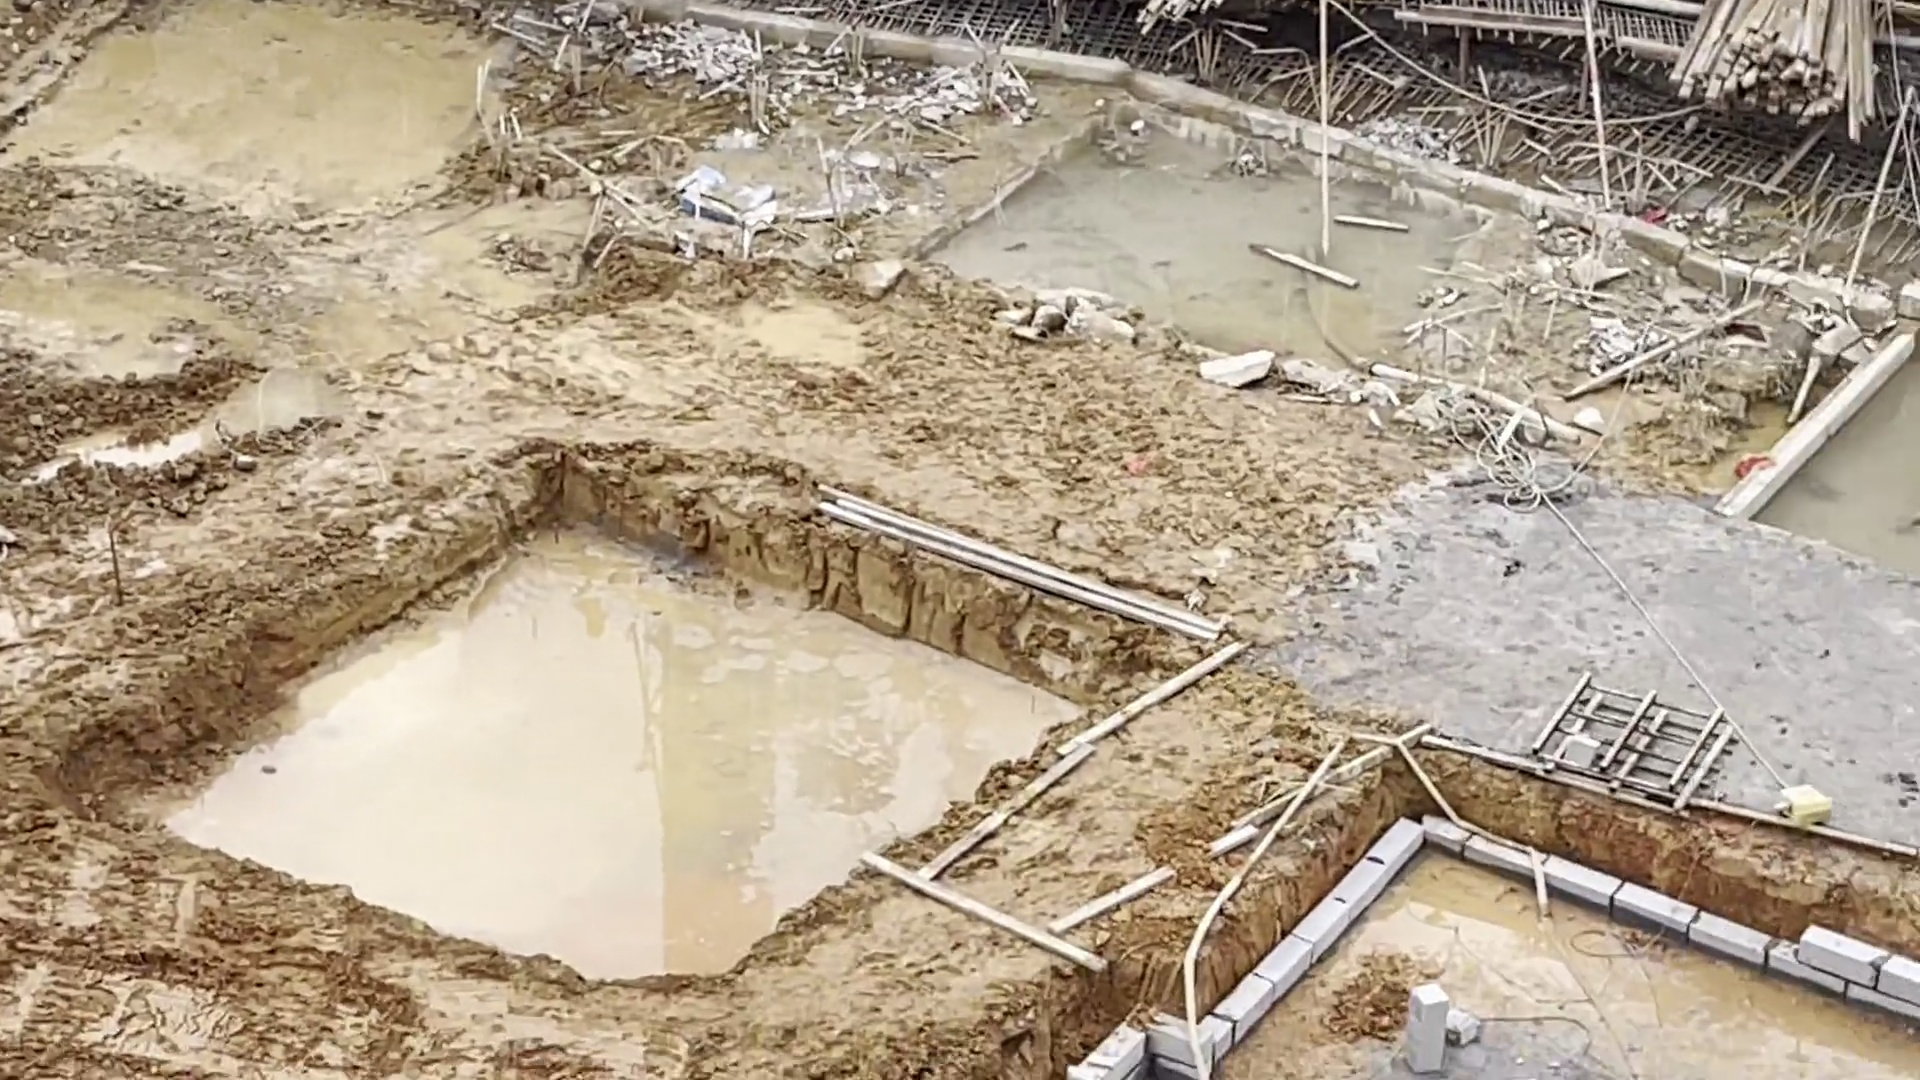wood: (1658, 1, 1876, 146)
